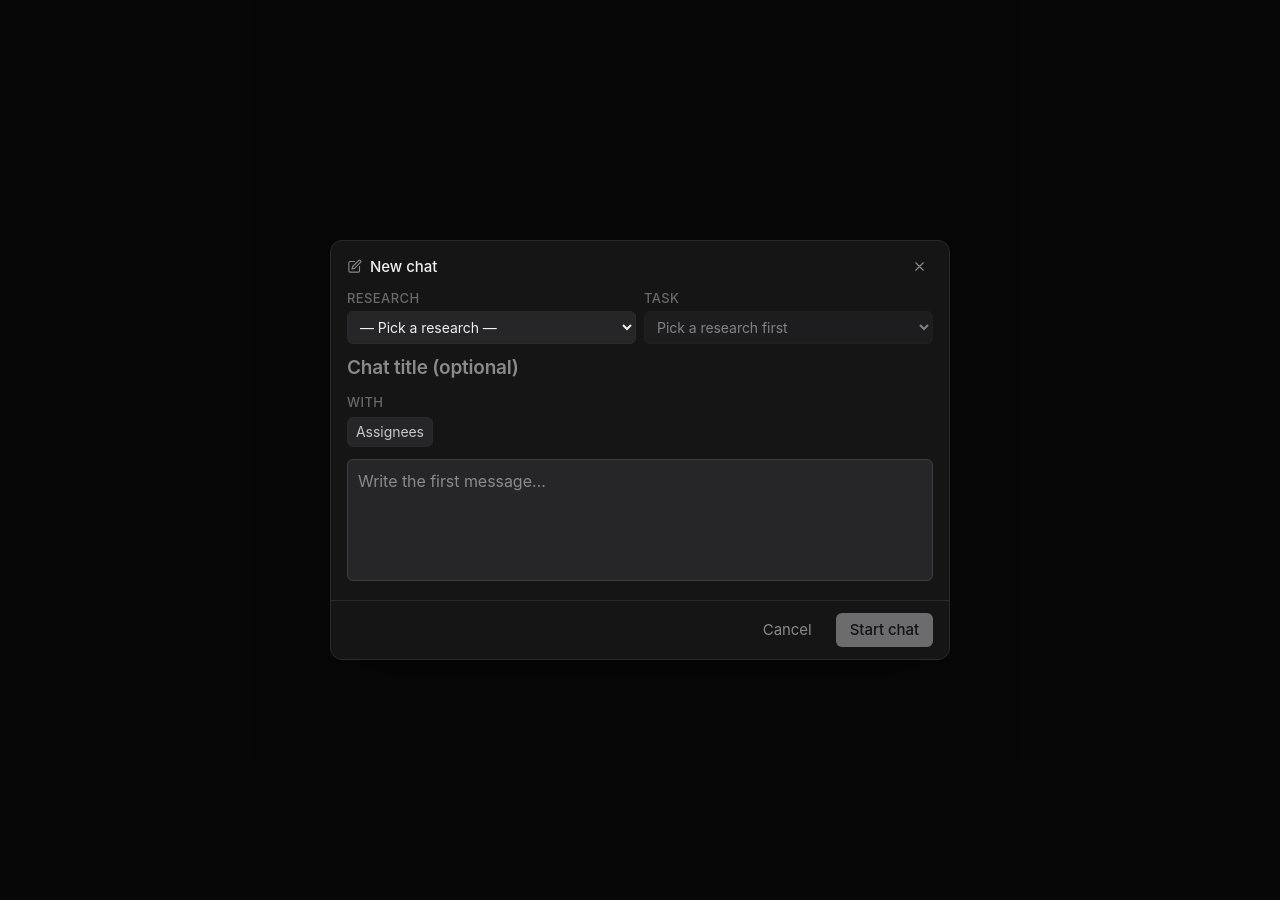
seeds the people from the Task, and re-seeds when the subject changes
Select "CMP · Cross-modal plasticity in the brain" in the dropdown labelled "Research": (492, 328) x1=347 y1=311 x2=636 y2=344
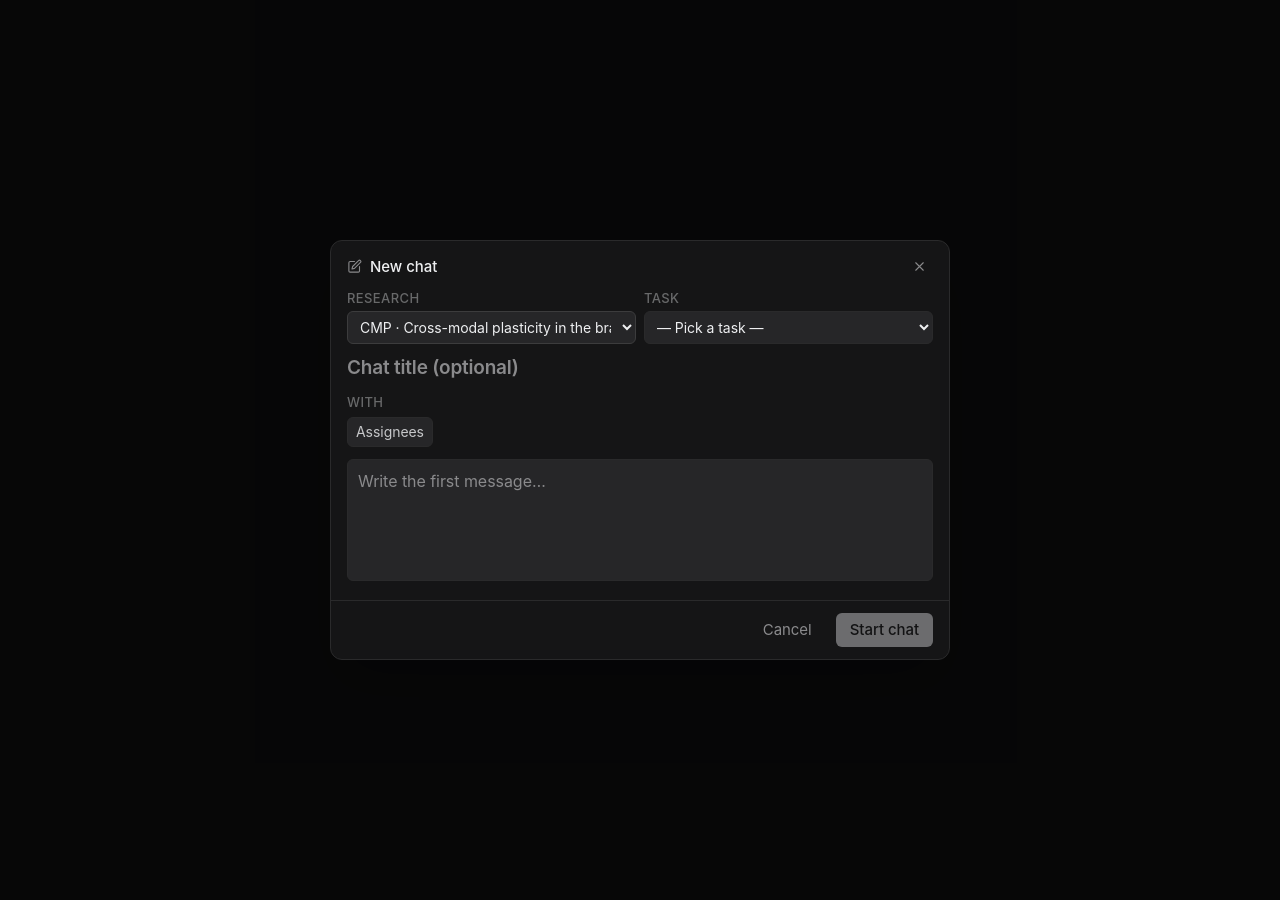
Note: CMP-3 is on You.
Select "CMP-3 · Preprocess two-photon calcium traces" in the dropdown labelled "Task": (788, 328) x1=644 y1=311 x2=933 y2=344
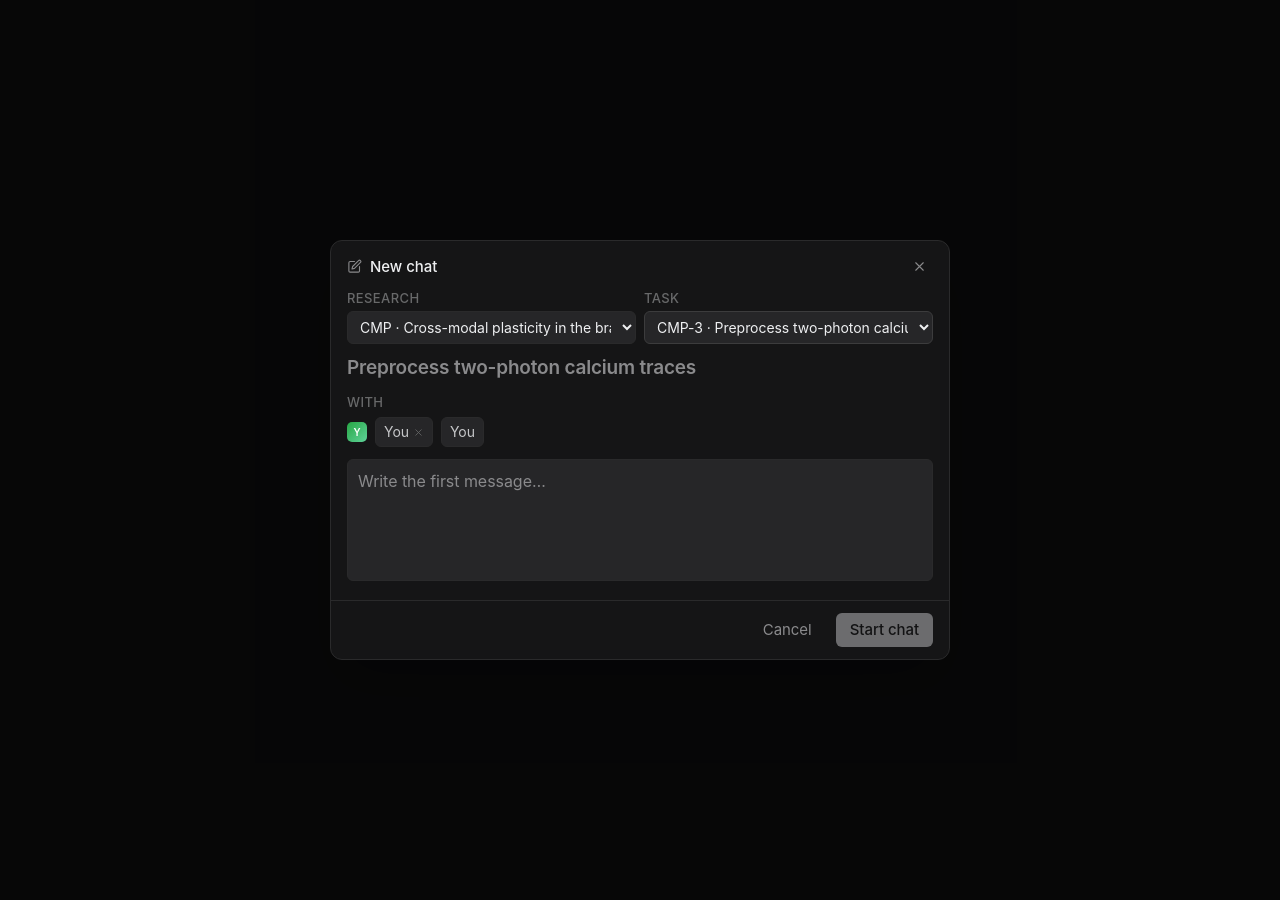
Now the button named "Remove You" is shown, box x1=403 y1=416 x2=434 y2=448
Select "CMP-4 · Register sessions across days" in the dropdown labelled "Task": (788, 328) x1=644 y1=311 x2=933 y2=344
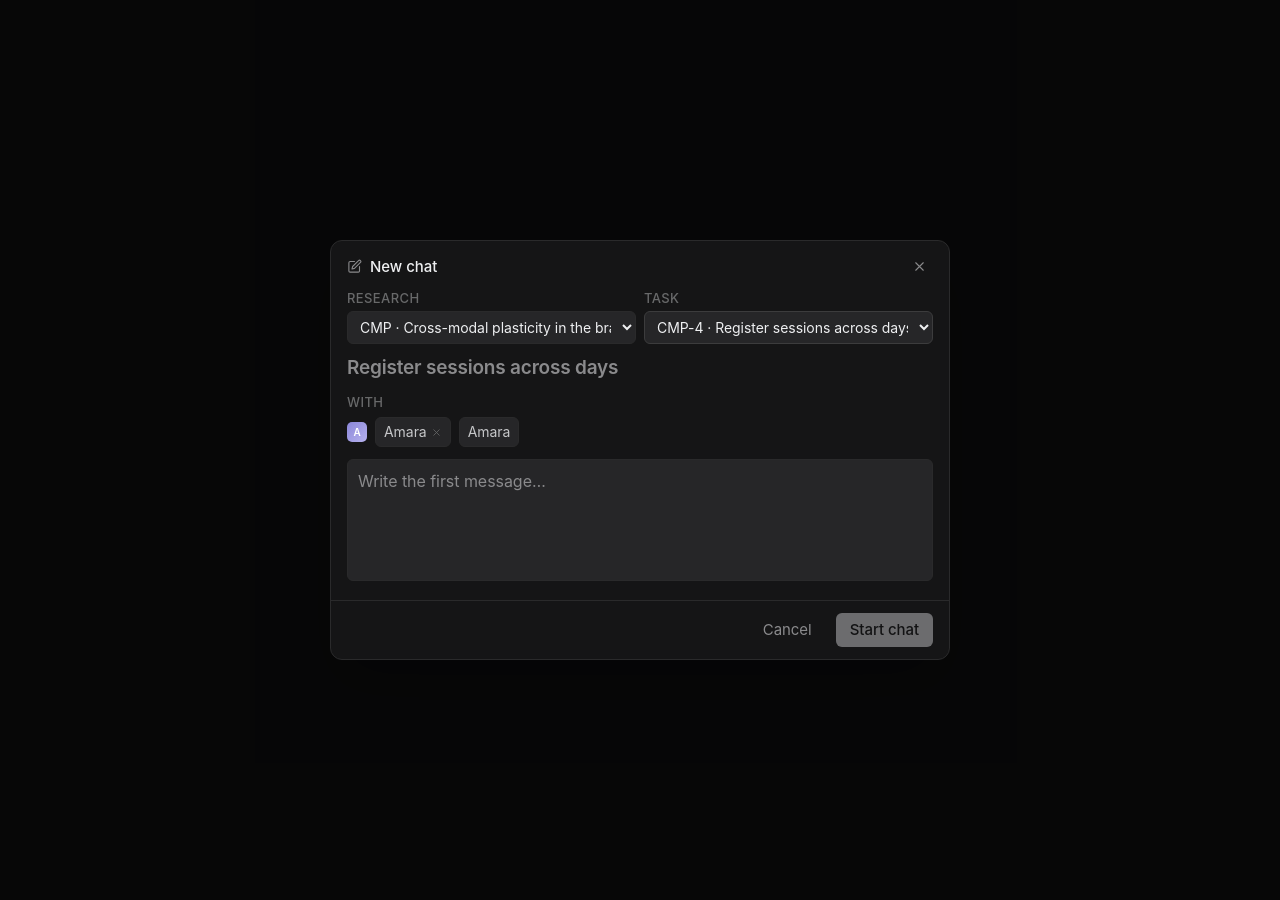
Now the button named "Remove Amara" is shown, box x1=421 y1=416 x2=452 y2=448
Now the text "Remove You" is gone
